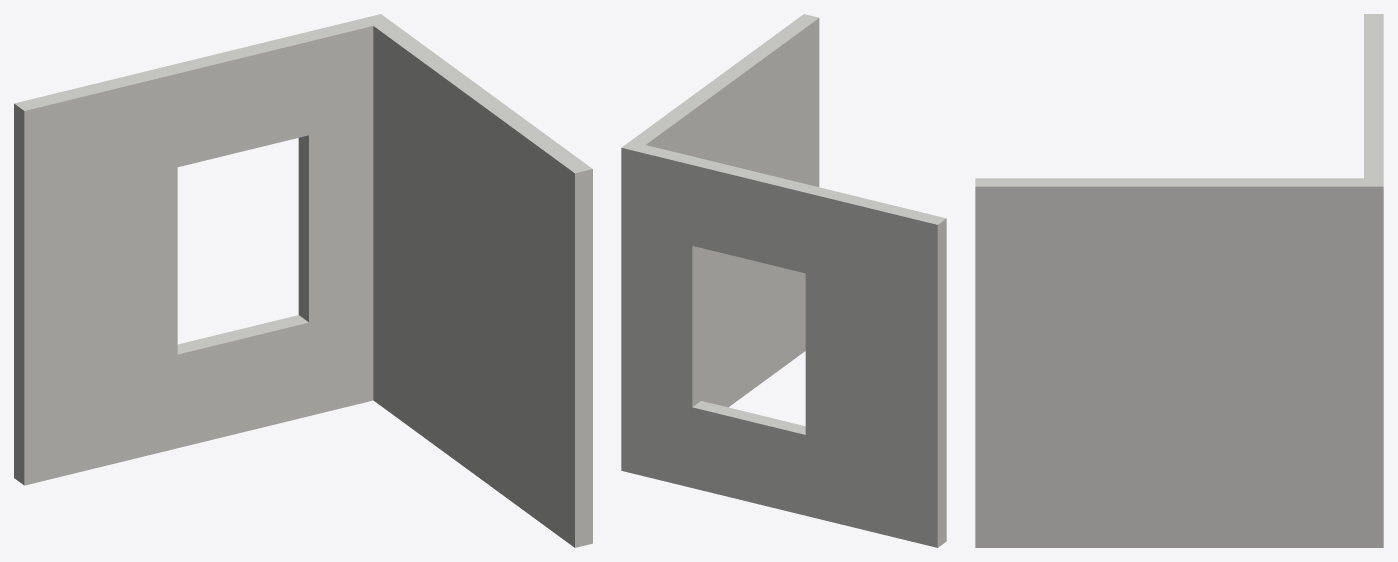
File: Wal_3_Corner_D.fbx
3 views of the same model, side by side, from view 1: azimuth 30°, elevation 25°; view 2: azimuth 150°, elevation 25°; view 3: azimuth 270°, elevation 25° (orthographic). The views are drawn at different scales.
Parts seen in each view (by area): view 1: polySurface21; view 2: polySurface21; view 3: polySurface21.
Boxes of the visible parts, <box> form: polySurface21: <box>14,14,592,547</box>; polySurface21: <box>621,14,946,547</box>; polySurface21: <box>975,14,1383,547</box>.
Bounding box in the file's own units: 4.1 × 4 × 4.1.
1 material, 1 textured.
